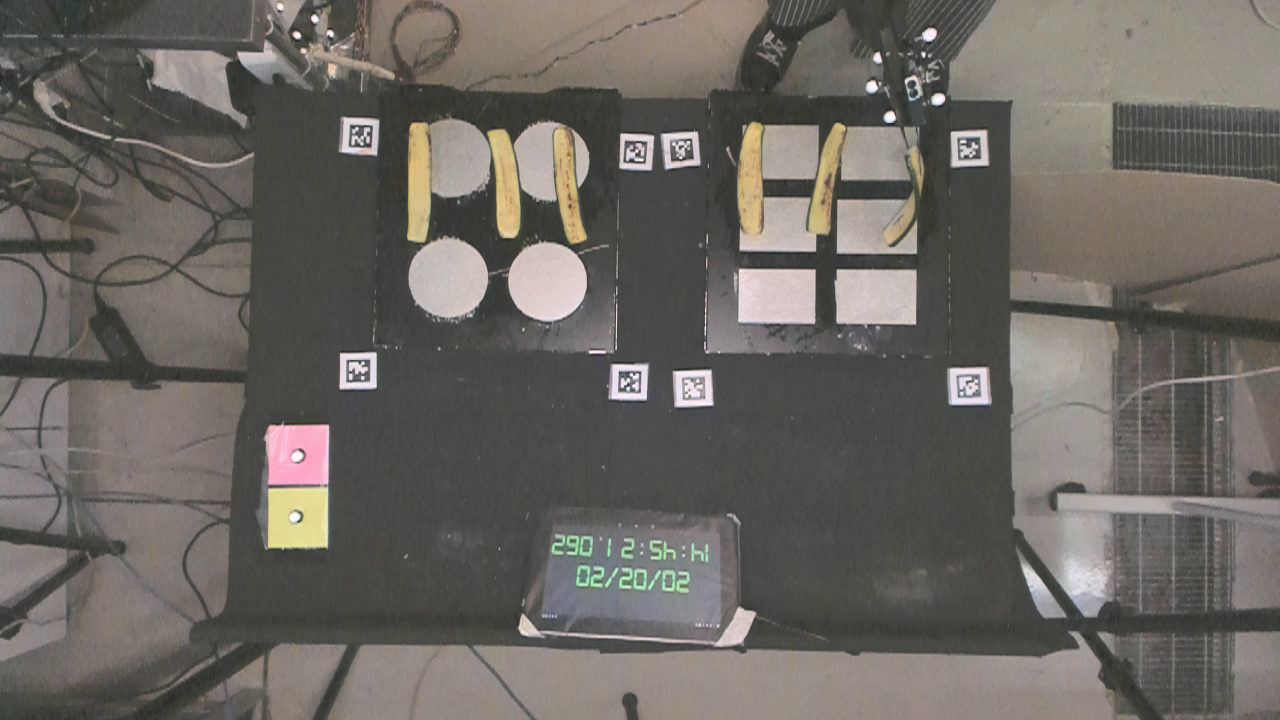marker: (267, 424, 329, 485)
zucchini: (551, 122, 594, 249), (809, 119, 847, 241), (486, 124, 524, 240), (732, 114, 768, 236), (889, 146, 928, 250), (405, 119, 434, 242)
